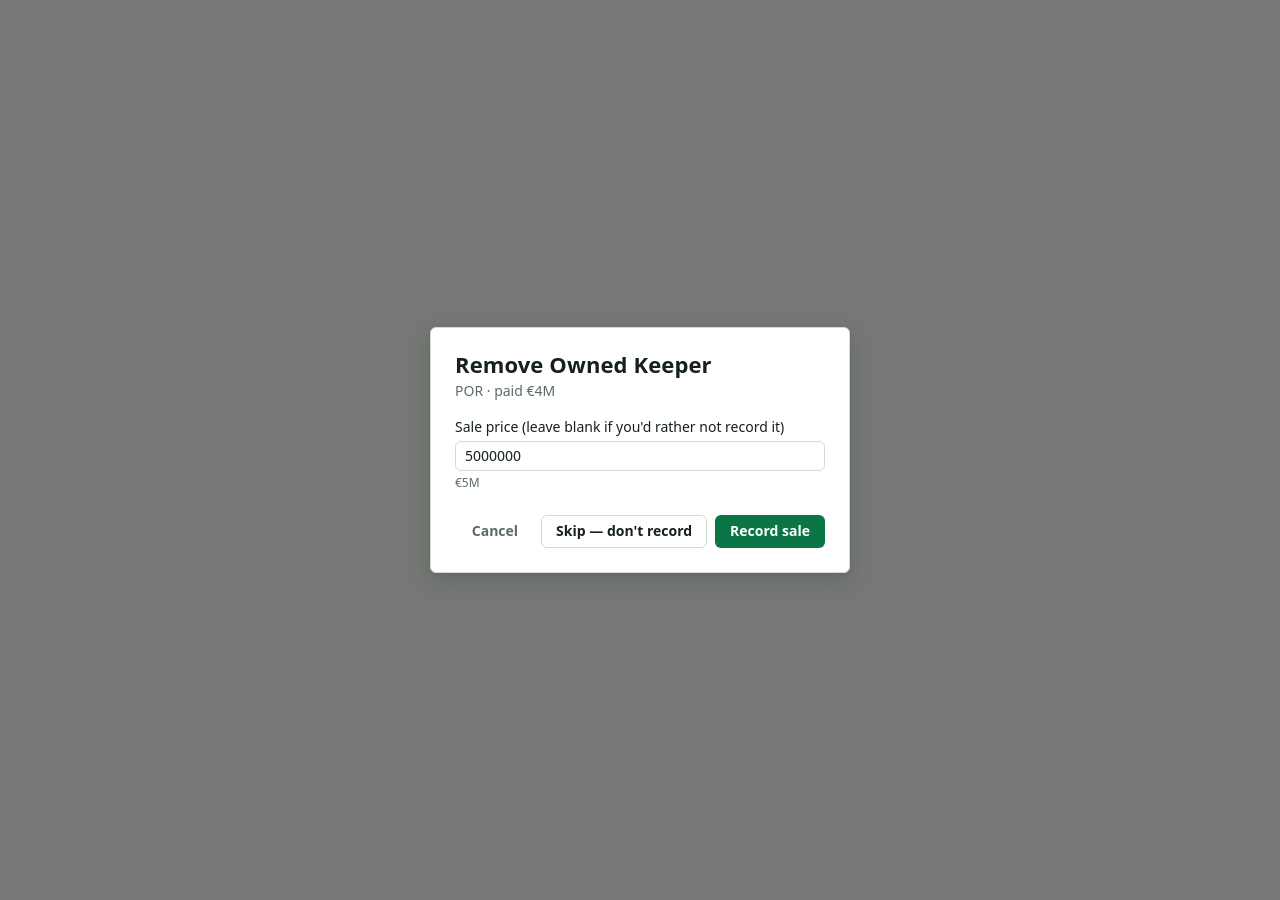
Scenario: RemoveFromSquadDialog › disables Record sale for an unparseable price, but leaves Skip enabled
Replace the text in the field labelled "Sale price (leave blank if you'd rather not record it)" with "not a number" at (640, 456), box [455,441,825,471]
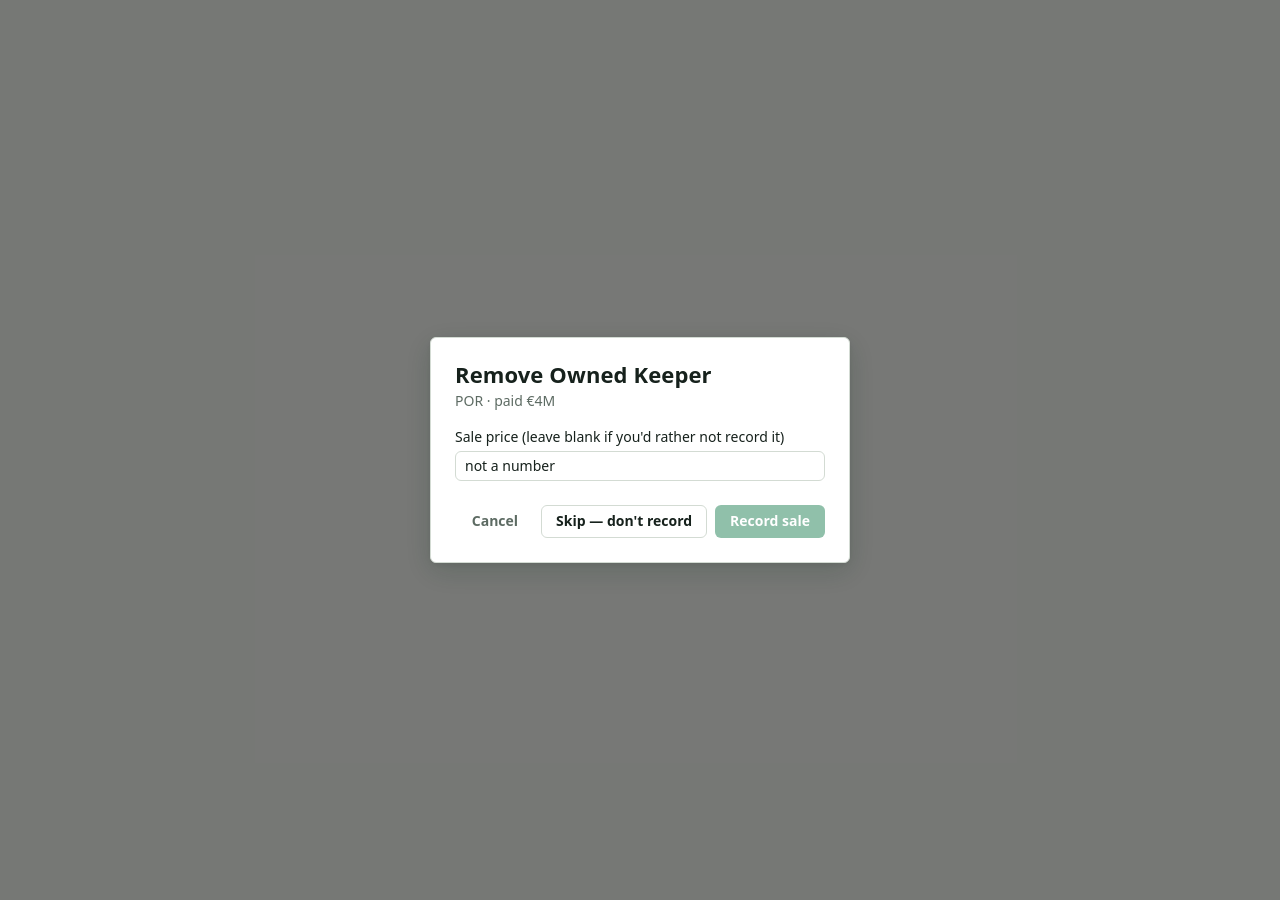
Expected: the button "Skip — don't record" is enabled, [541,505,707,538]
Expected: the button "Record sale" is disabled, [715,505,825,538]
